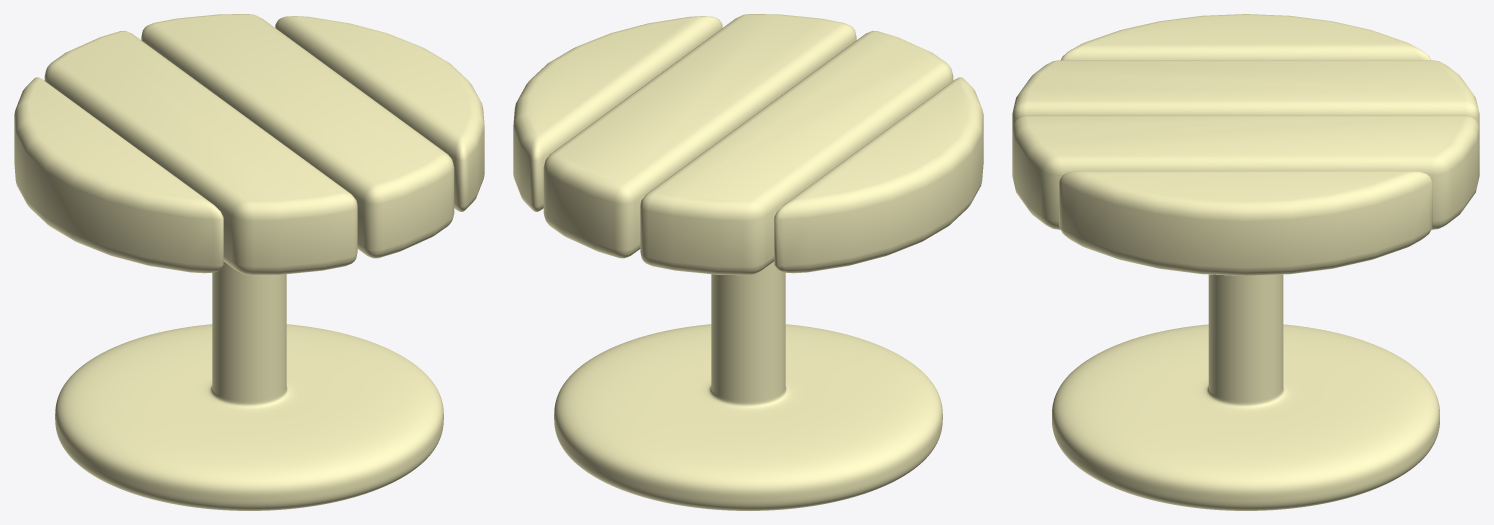
File: Mesa redonda madera 1.fbx
3 renders of one model, left to right at view 1: azimuth 30°, elevation 25°; view 2: azimuth 150°, elevation 25°; view 3: azimuth 270°, elevation 25°, orthographic.
Parts seen in each view (by area): view 1: Circle.001, Circle; view 2: Circle.001, Circle; view 3: Circle.001, Circle.
Boxes of the visible parts, <box> form: Circle.001: <box>14,14,484,275</box>; Circle: <box>55,261,443,510</box>; Circle.001: <box>513,14,983,275</box>; Circle: <box>554,261,942,510</box>; Circle.001: <box>1012,14,1479,275</box>; Circle: <box>1052,274,1439,510</box>.
Size of the model in its own units: 375 by 290 by 372.
